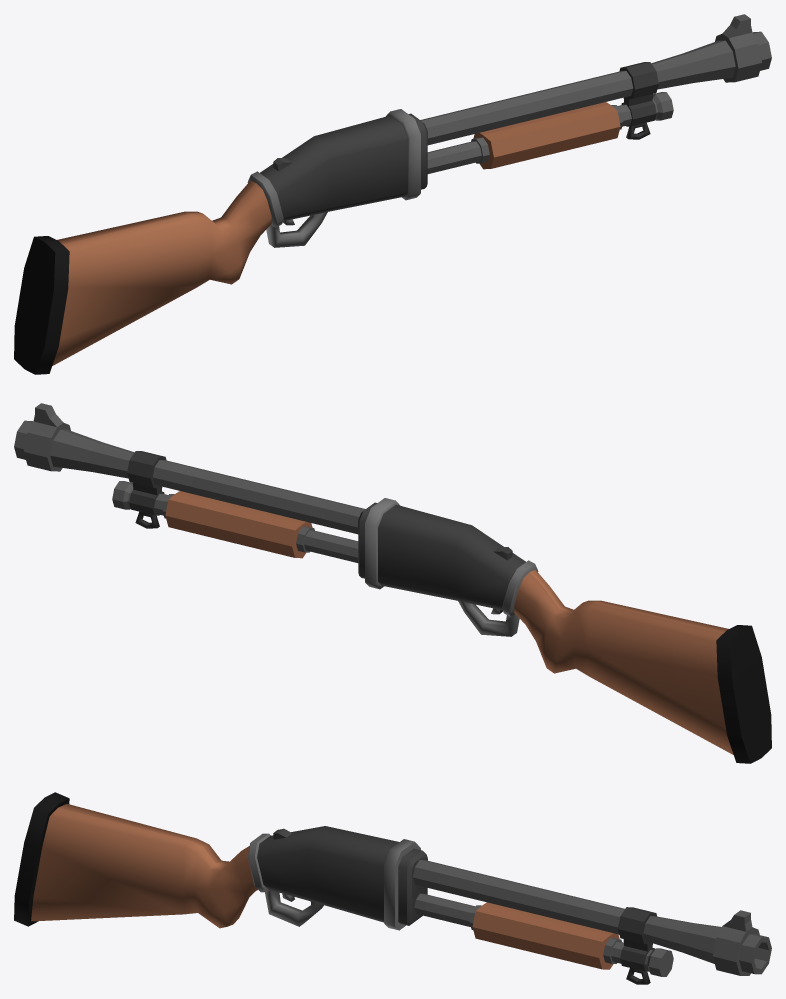
The model's file is shotgun.fbx.
3 views of the same model, one above another, from view 1: azimuth 30°, elevation 25°; view 2: azimuth 150°, elevation 25°; view 3: azimuth 330°, elevation 25° (orthographic).
Visible parts, largest first — view 1: Shotgun; view 2: Shotgun; view 3: Shotgun.
Part boxes in pixels (x1=…): Shotgun: x1=14, y1=14, x2=771, y2=374; Shotgun: x1=14, y1=403, x2=771, y2=763; Shotgun: x1=14, y1=792, x2=771, y2=984.
Bounding box in the file's own units: 1.33 × 0.3087 × 0.093.
Materials: 1 (1 with a texture image).
